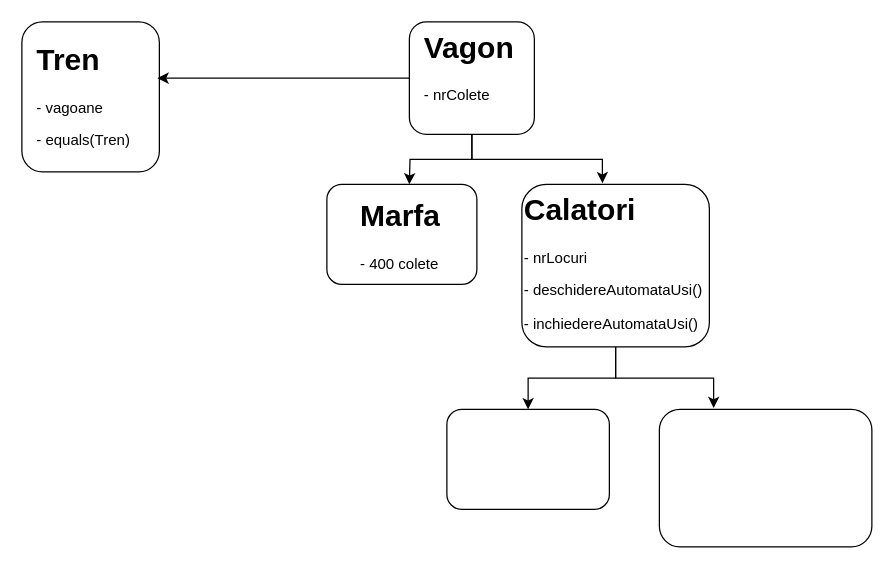
This 894x569 diagram has some shape labels left out. Here are the shapes that lost their labels. From the top down, the centre of each, then its label:
At point 527,458: "CalatoriA 40 locuri + 300 colete".
At point 765,477: "CalatoriB 50 locuri + 400 colete - blocareAutomataGeamuri()".
